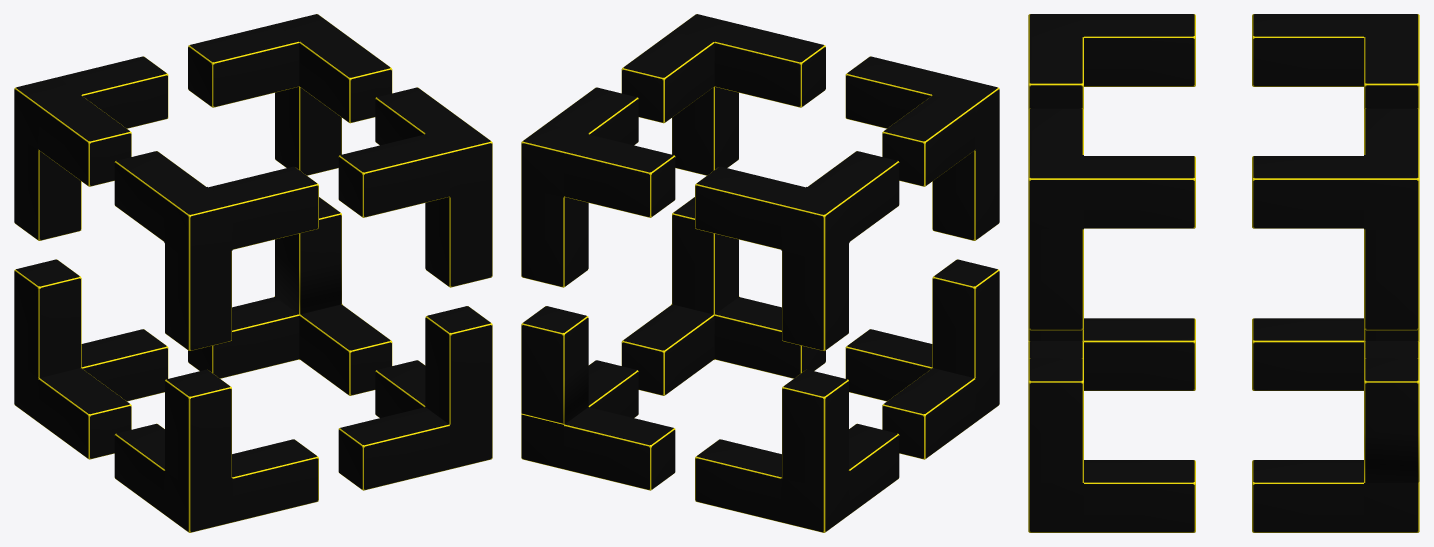
The model's file is impossiblebox.fbx.
3 views of the same model, side by side, from view 1: azimuth 30°, elevation 25°; view 2: azimuth 150°, elevation 25°; view 3: azimuth 270°, elevation 25° (orthographic). The views are drawn at different scales.
Parts seen in each view (by area): view 1: Box045; view 2: Box045; view 3: Box045.
Part boxes in pixels (x1,y1,x2,y2): Box045: [14, 14, 492, 532]; Box045: [521, 14, 999, 532]; Box045: [1028, 14, 1419, 532].
Size of the model in its own units: 280 by 280 by 280.
